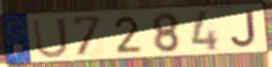2: (112, 15, 145, 55)
4: (188, 9, 223, 53)
7: (72, 14, 105, 59)
8: (149, 12, 181, 54)
J: (229, 9, 258, 49)
U: (31, 16, 71, 60)
